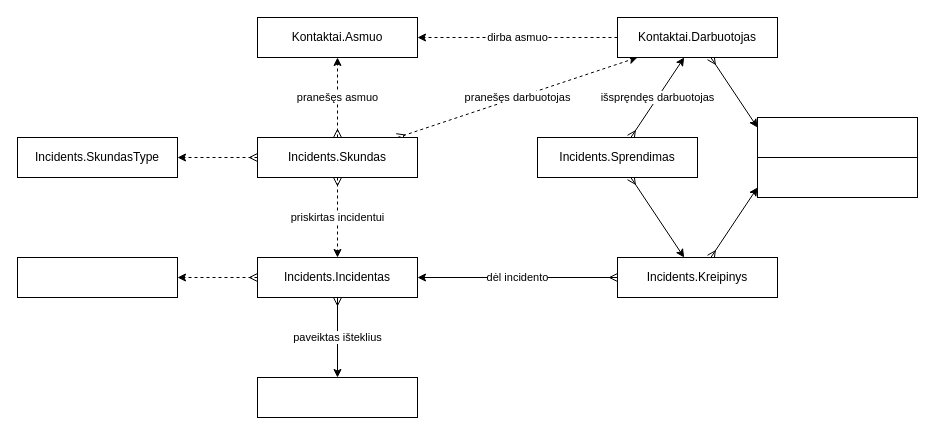
Image size: 935x435. Some labels were removed from this diagram. The centre of each missing label's shape, as x and y in pixels:
Incidents.AptarnaujantiImone: (837,177)
Incidents.IncidentoPozymis: (97,277)
Incidents.InformacinisIsteklius: (337,397)
Kontaktai.Darboviete: (837,137)
